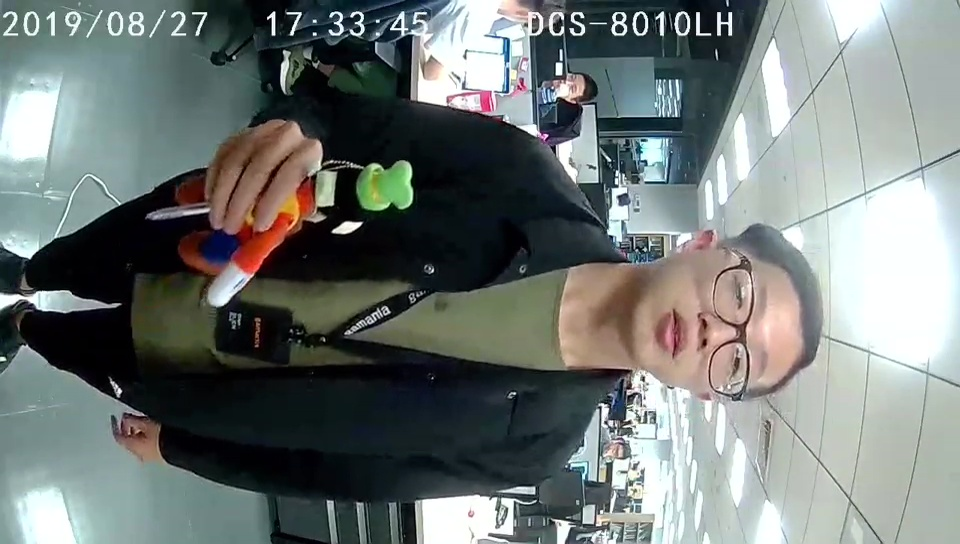goofy: (176, 161, 416, 307)
